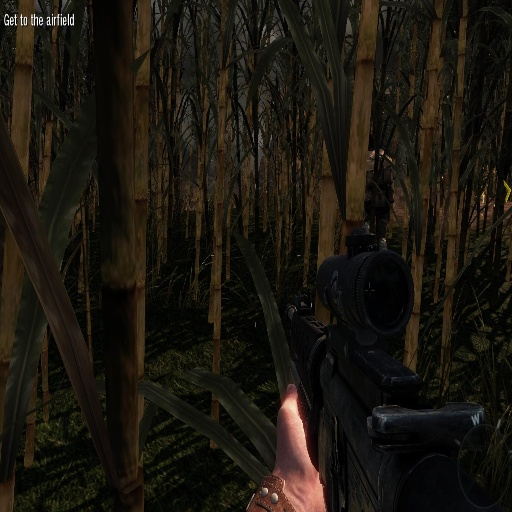hand: (270, 379, 325, 511)
